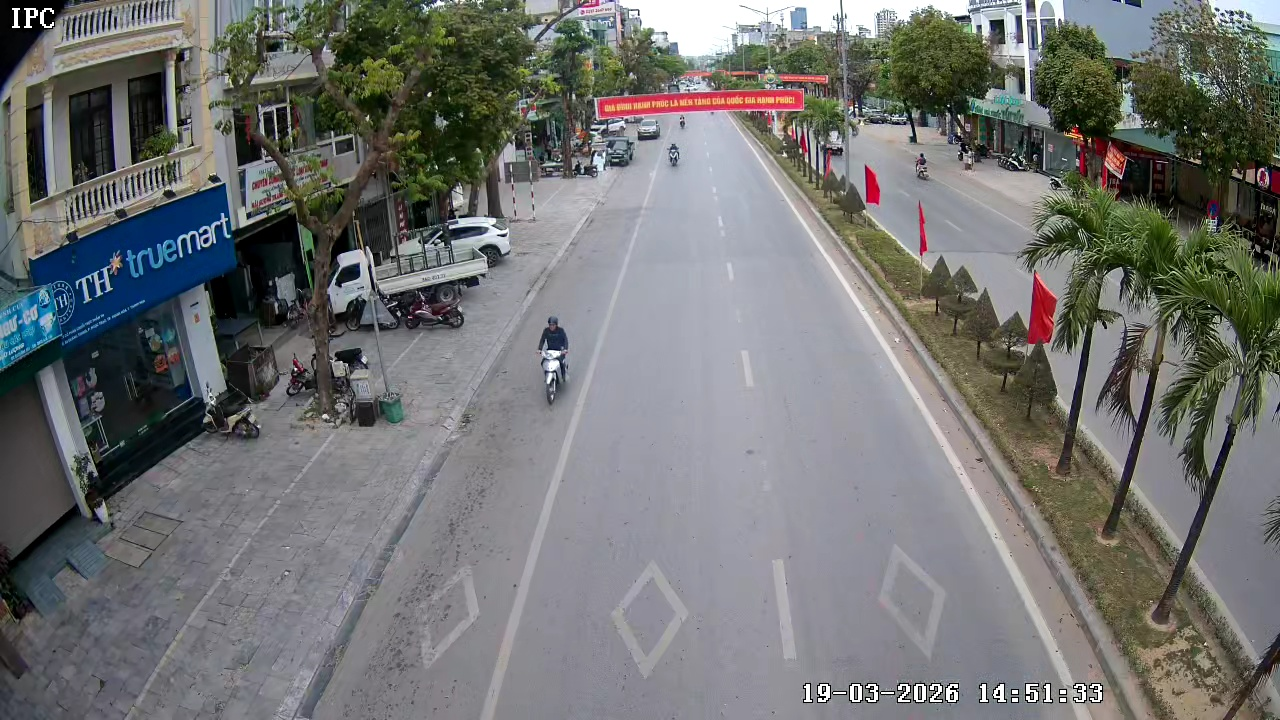car: (637, 115, 662, 141)
motorbike: (536, 313, 574, 406), (913, 148, 931, 181), (666, 139, 683, 168)
